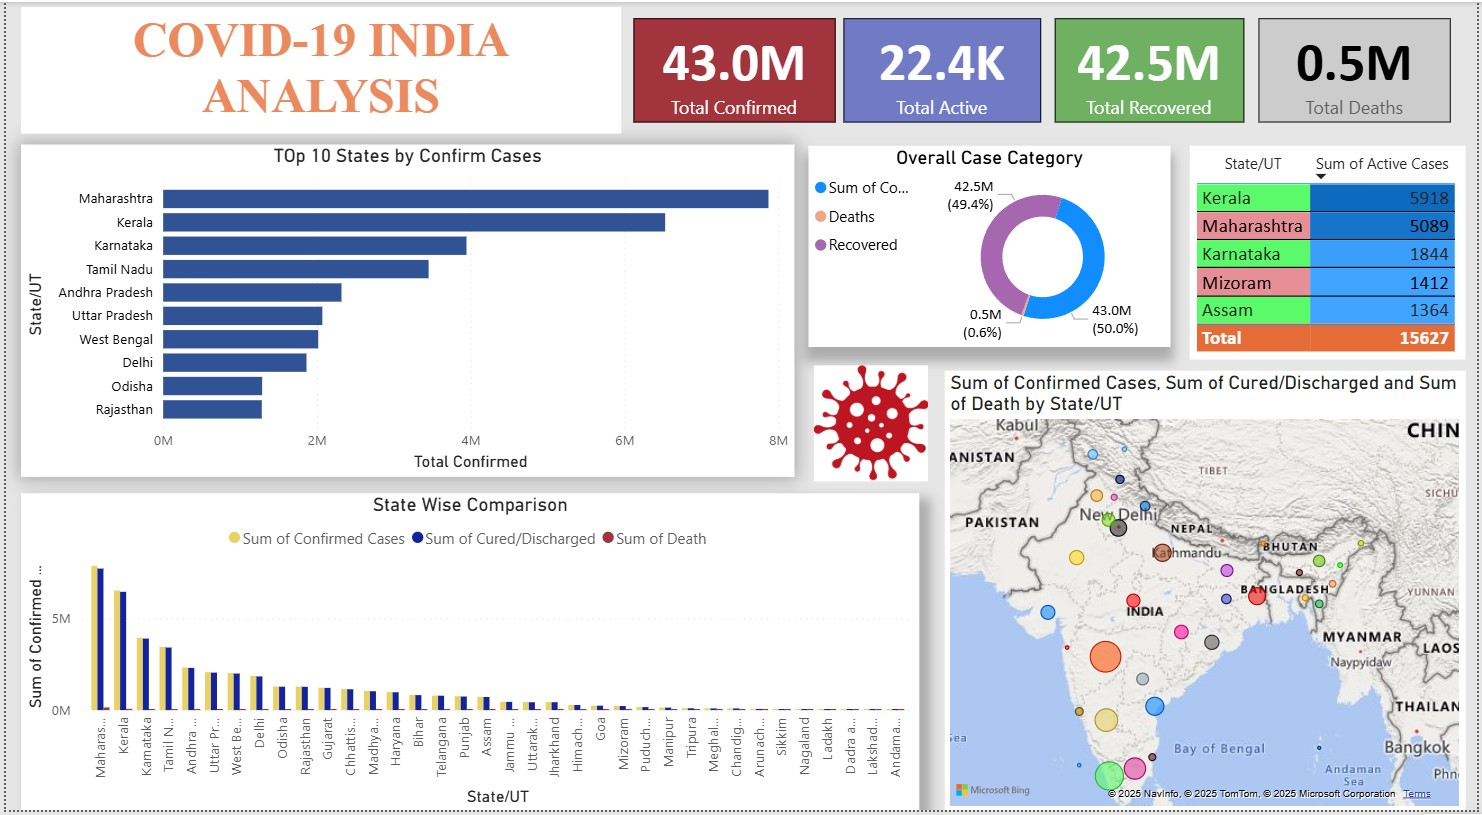

The dashboard page shown, as its layout file describes it:
{"tool":"powerbi","page":{"name":"COVID-19","canvas":[1310,720],"ordinal":0},"visuals":[{"type":"card","fields":{"Values":["COVID_19 INDIA.Total Confirmed"]},"box":[558.6,14.3,180,92.9],"z":0},{"type":"card","fields":{"Values":["COVID_19 INDIA.Total Active"]},"box":[745.7,14.3,175.7,92.9],"z":1000},{"type":"card","fields":{"Values":["COVID_19 INDIA.Total Deaths"]},"box":[1115.7,14.3,171.4,92.9],"z":2000},{"type":"card","fields":{"Values":["COVID_19 INDIA.Total Recovered"]},"box":[934.3,14.3,168.6,92.9],"z":3000},{"type":"barChart","title":"TOp 10 States by Confirm Cases","fields":{"Category":["COVID_19 INDIA.State/UT"],"Y":["COVID_19 INDIA.Total Confirmed"]},"box":[12.9,127.1,688.6,295.7],"z":4000},{"type":"pieChart","title":"Overall Case Category","fields":{"Y":["Sum(COVID_19 INDIA.Confirmed Cases)","COVID_19 INDIA.Total Deaths","COVID_19 INDIA.Total Recovered"]},"box":[714.1,127.6,322.7,179.1],"z":5000},{"type":"clusteredColumnChart","title":"State Wise Comparison","fields":{"Y":["Sum(COVID_19 INDIA.Confirmed Cases)","Sum(COVID_19 INDIA.Cured/Discharged)","Sum(COVID_19 INDIA.Death)"],"Category":["COVID_19 INDIA.State/UT"]},"box":[12.9,437.1,800,282.9],"z":6000},{"type":"tableEx","fields":{"Values":["COVID_19 INDIA.State/UT","Sum(COVID_19 INDIA.Active Cases)"]},"box":[1054,127.6,245.4,190.2],"z":7000},{"type":"textbox","box":[12.9,4.3,534.3,112.9],"z":8000},{"type":"map","fields":{"Category":["COVID_19 INDIA.State/UT"],"Size":["Sum(COVID_19 INDIA.Confirmed Cases)"]},"box":[836,327.9,463,392.7],"z":9000},{"type":"image","box":[714.2,317.5,111.7,115.8],"z":10000}]}

Visuals, with their boxes in screenshot pixels (x1, y1, x2, y2), scaled from the page's 1310x720 canvas onto the 1482x815 screenshot:
card - COVID_19 INDIA.Total Confirmed: 632:16:836:121
card - COVID_19 INDIA.Total Active: 844:16:1042:121
card - COVID_19 INDIA.Total Deaths: 1262:16:1456:121
card - COVID_19 INDIA.Total Recovered: 1057:16:1248:121
"TOp 10 States by Confirm Cases" barChart: 15:144:794:479
"Overall Case Category" pieChart: 808:144:1173:347
"State Wise Comparison" clusteredColumnChart: 15:495:920:814
tableEx - COVID_19 INDIA.State/UT x Sum(COVID_19 INDIA.Active Cases): 1192:144:1470:360
textbox: 15:5:619:133
map - COVID_19 INDIA.State/UT x Sum(COVID_19 INDIA.Confirmed Cases): 946:371:1470:814
image: 808:359:934:490
